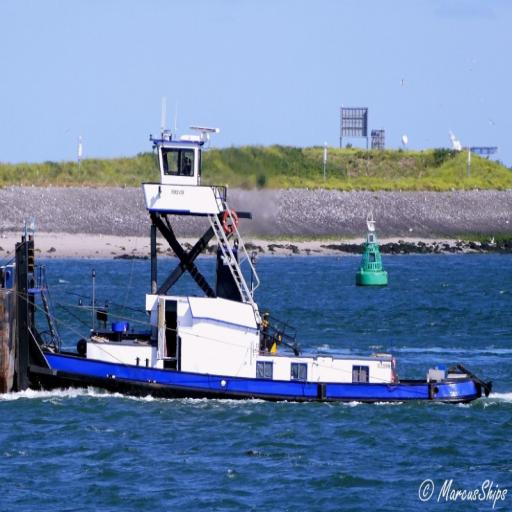tugboat: (16, 123, 495, 412)
